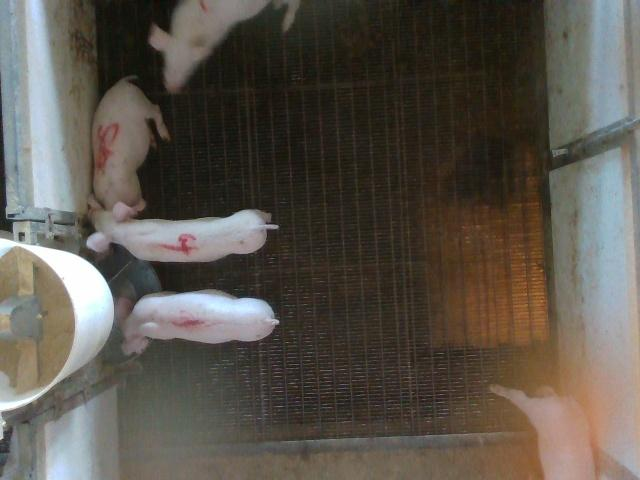pig-1: (114, 290, 279, 355)
pig-4: (88, 202, 278, 262)
pig-5: (92, 75, 170, 213)
